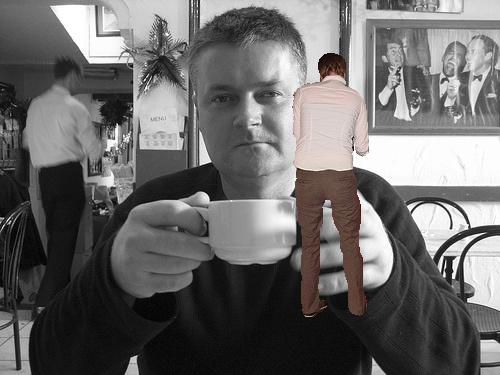tampered: (293, 54, 369, 317)
